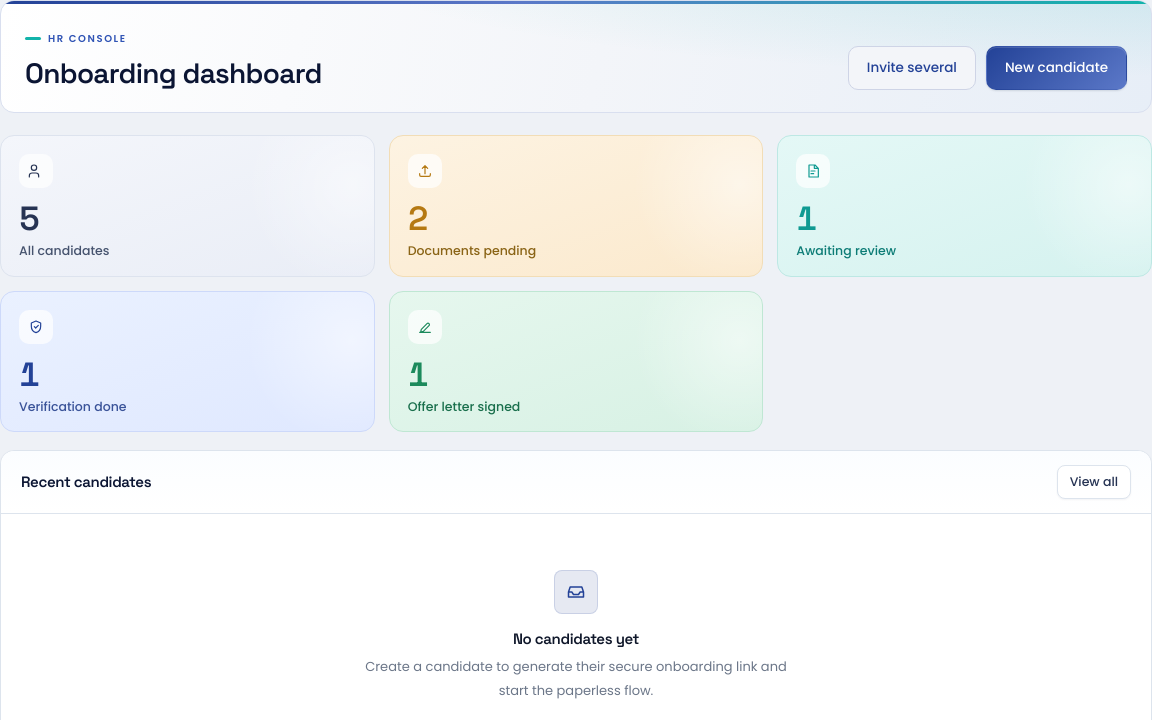
Test: clicking a dashboard figure › opens the candidate list narrowed to the people it counted
Click the button "2 Documents pending".
click(425, 171)  # box [389,135,763,276]
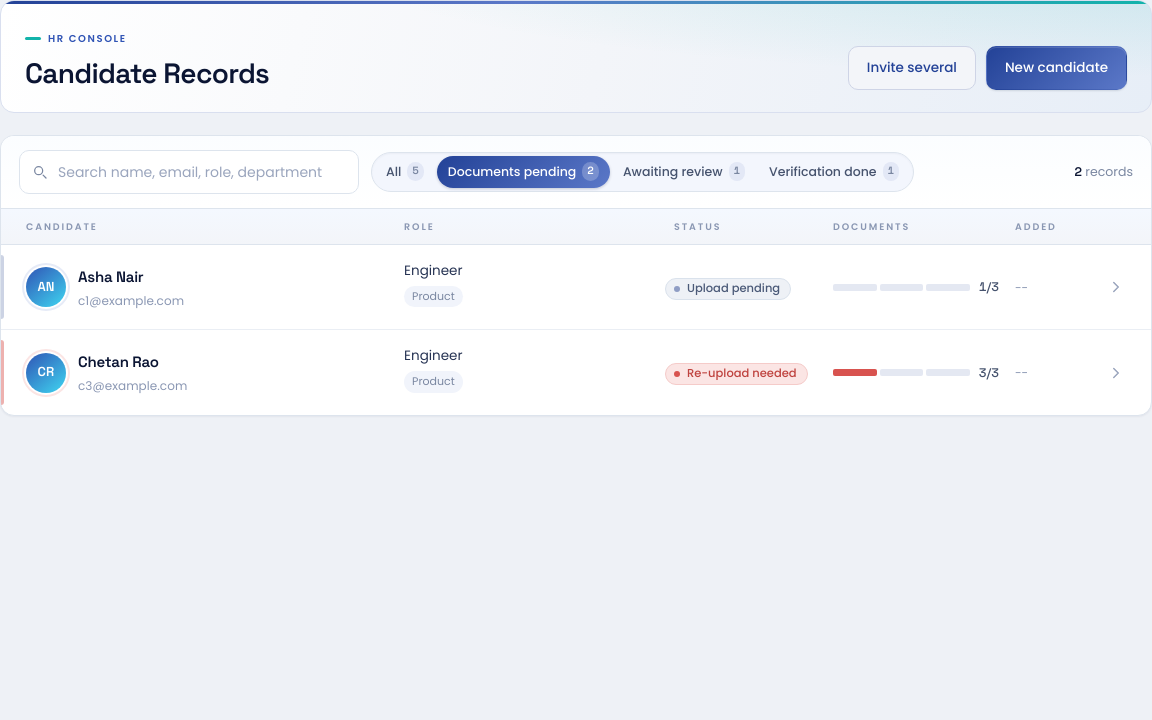
Expected: the text "Asha Nair" is shown, [78,267,144,286]
Expected: the text "Chetan Rao" is shown, [78,352,159,371]
